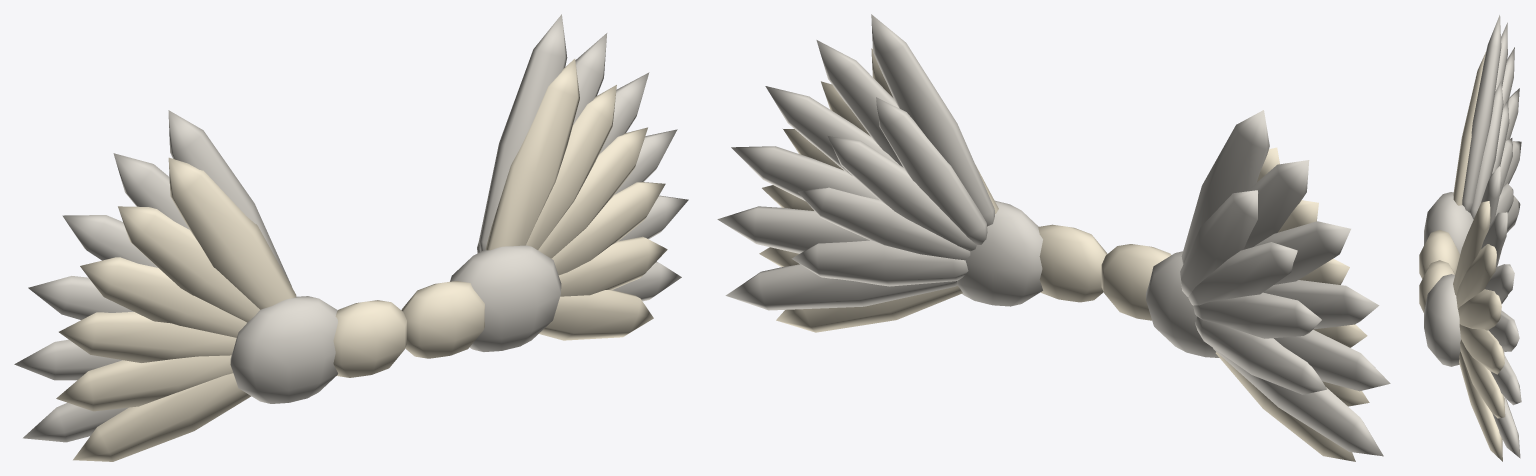
Rendered from back_wings.glb.
3 renders of one model, left to right at view 1: azimuth 30°, elevation 25°; view 2: azimuth 150°, elevation 25°; view 3: azimuth 270°, elevation 25°, orthographic. The views are drawn at different scales.
Parts seen in each view (by area): view 1: BackWings; view 2: BackWings; view 3: BackWings.
Boxes of the visible parts, <box> form: BackWings: <box>14,14,688,461</box>; BackWings: <box>717,14,1390,461</box>; BackWings: <box>1419,15,1521,461</box>.
Bounding box in the file's own units: 0.8565 × 0.4069 × 0.1423.
